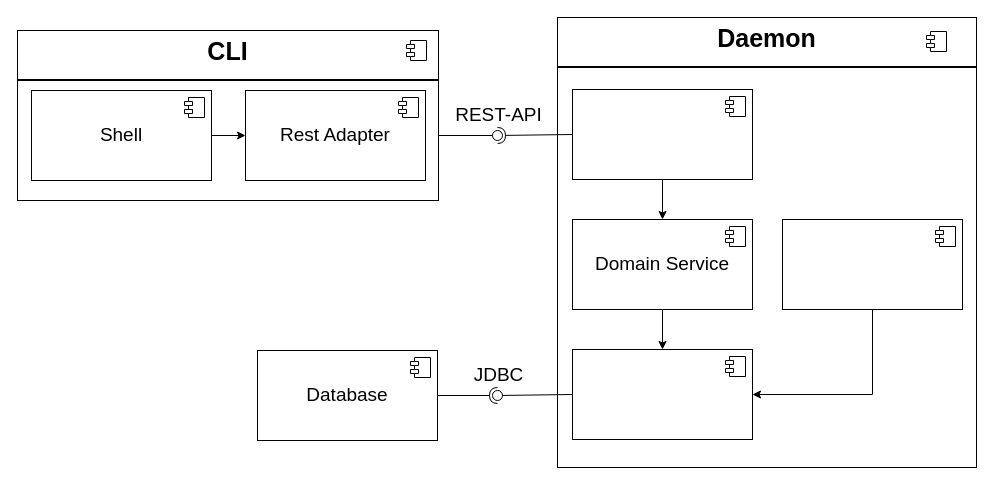
The diagram is 994 pixels wide and 485 high, and some of its shapes have lost their labels. The centre of each missing label's shape, as x and y in pixels:
Operations Scheduler: pixel 872 264
Repository: pixel 662 394
Rest Controller: pixel 662 134
